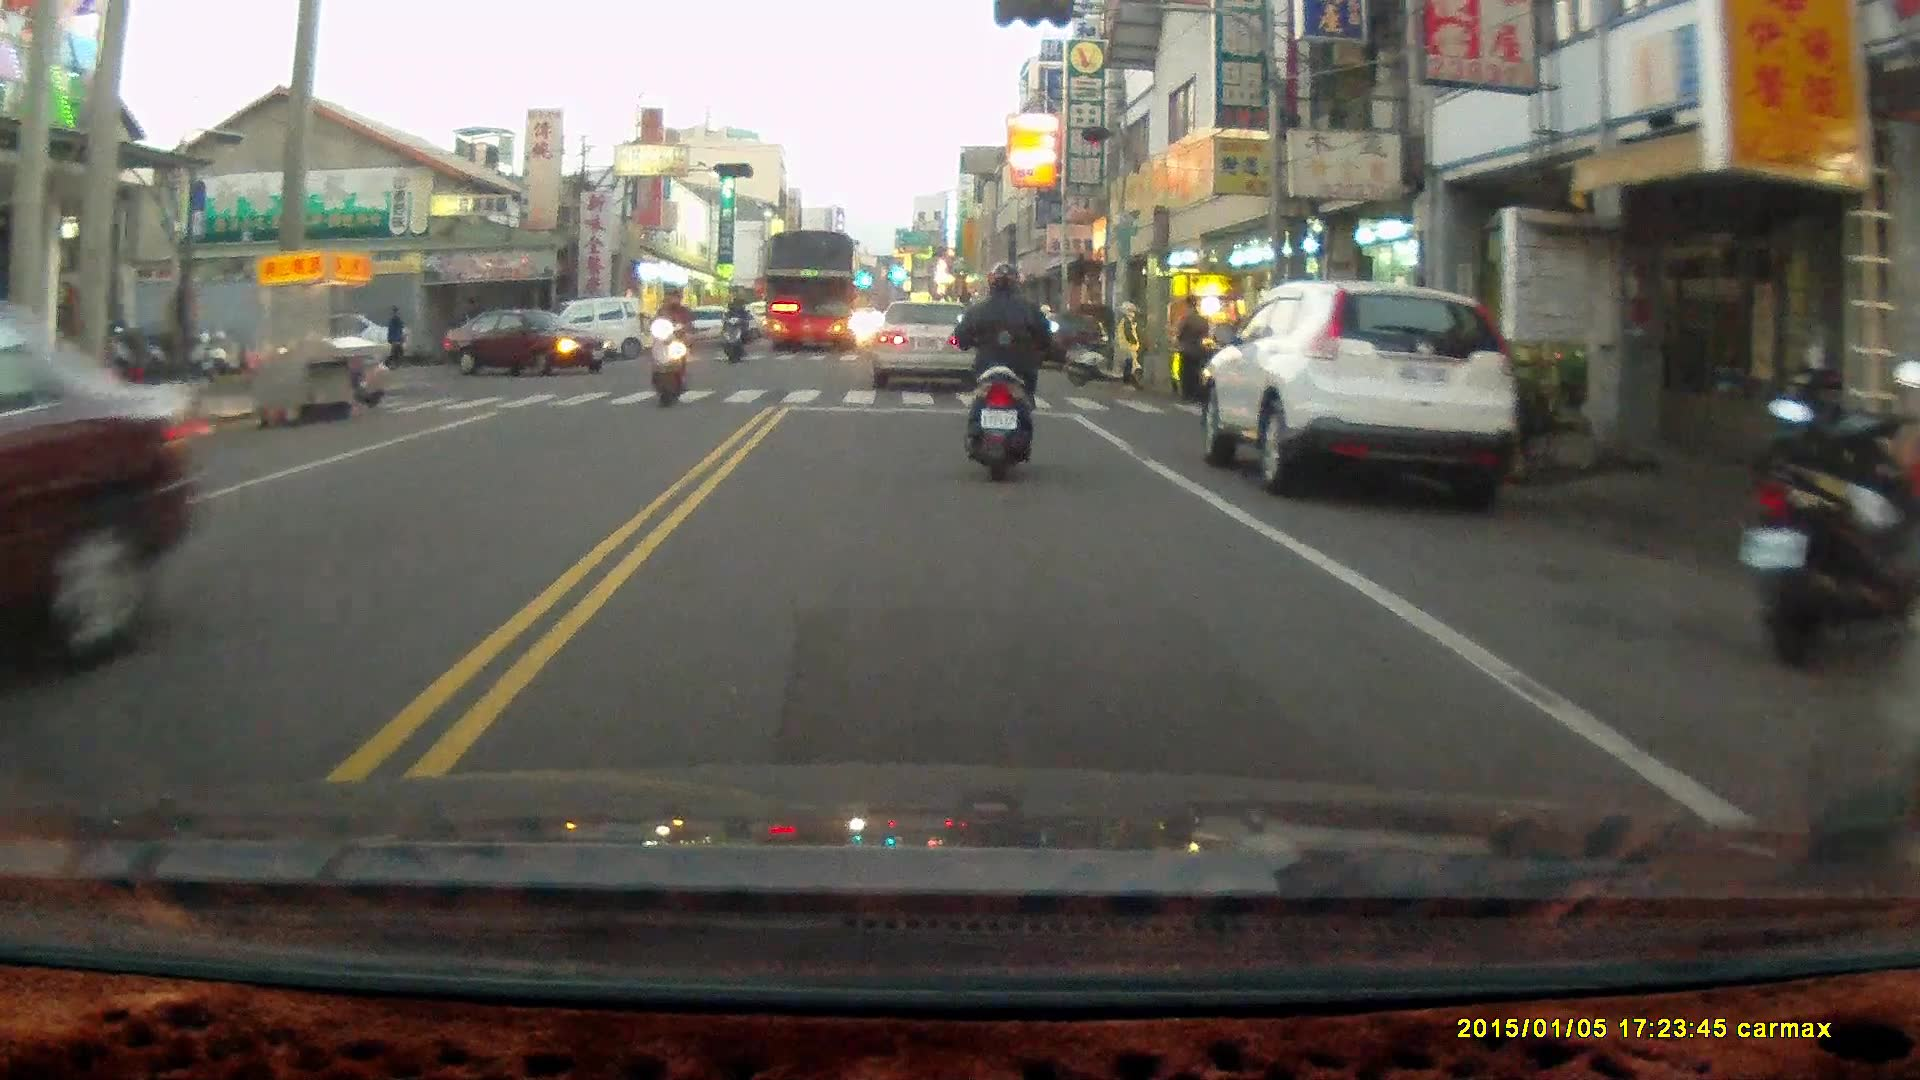pedestrian: (1177, 293, 1209, 402), (1115, 297, 1148, 390), (383, 301, 406, 367)
rider: (953, 259, 1053, 479), (638, 280, 689, 408), (722, 290, 747, 360)
vehicle: (1, 298, 204, 700), (1203, 279, 1518, 496), (754, 232, 864, 350), (453, 306, 610, 382), (871, 300, 981, 392)
